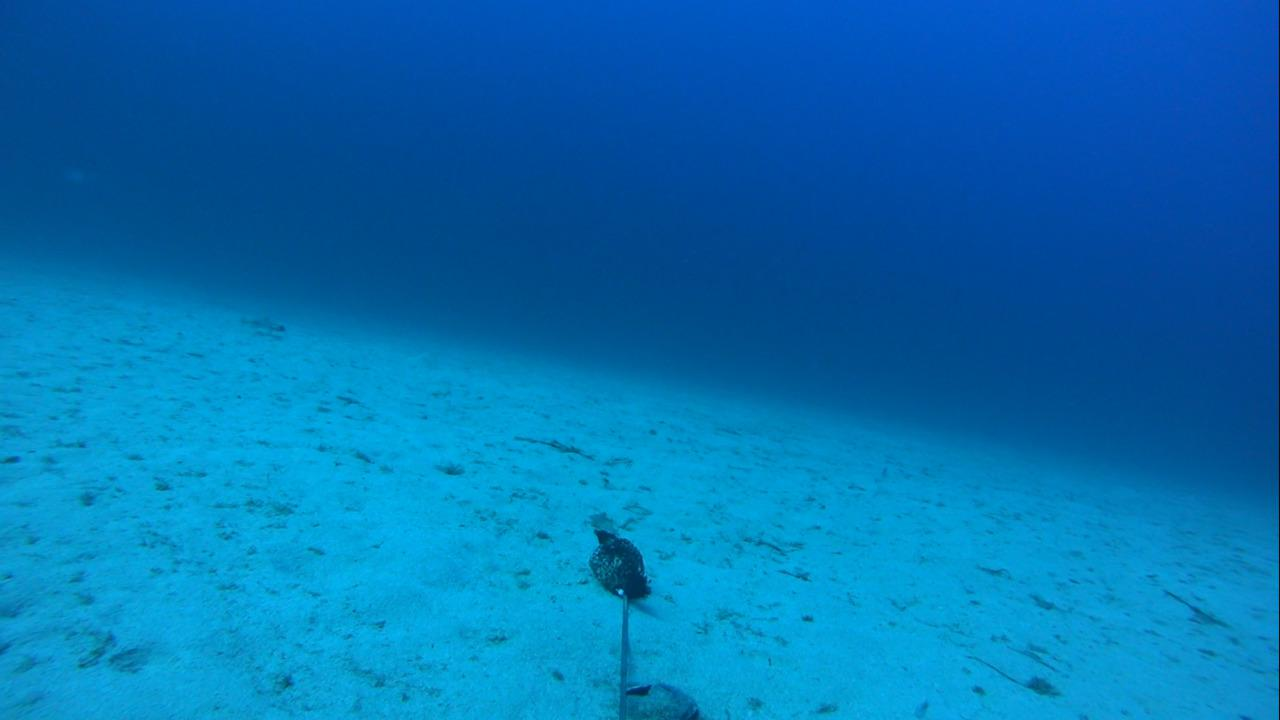dactylopterus: (230, 314, 291, 331)
